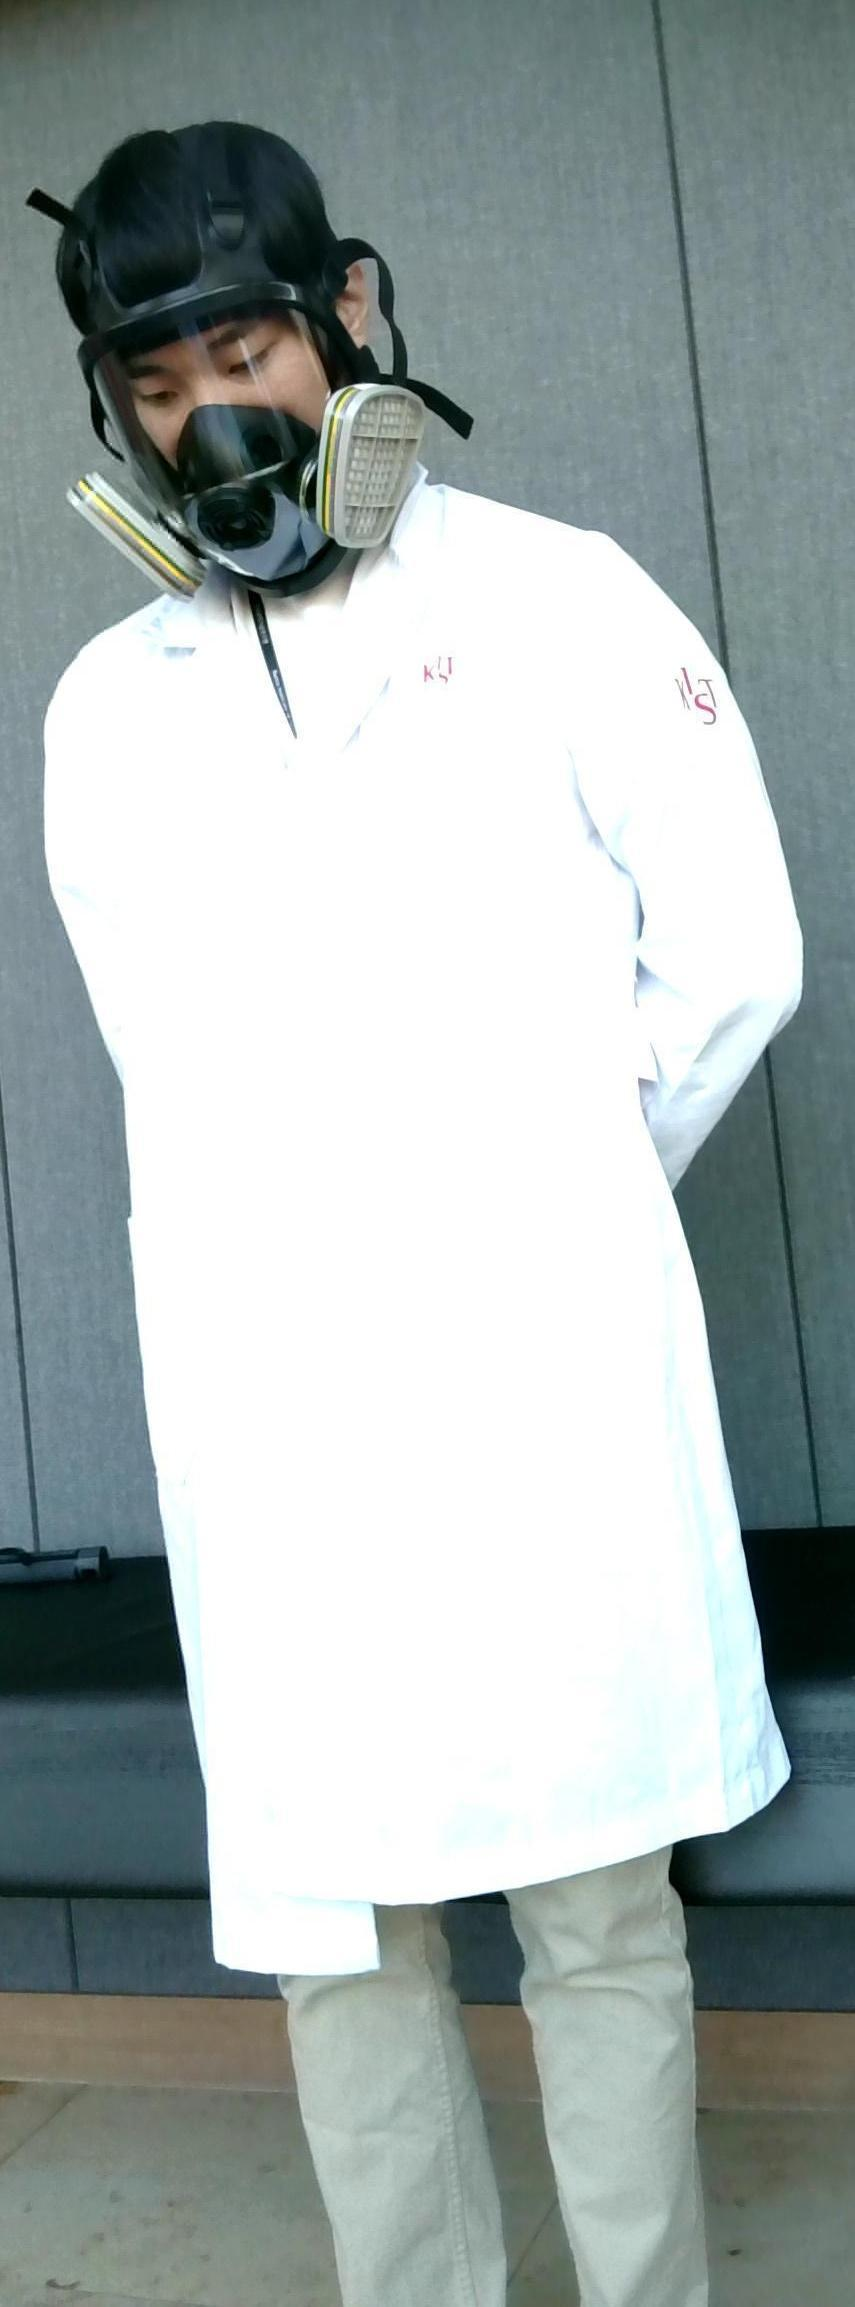lab_coat: (46, 596, 776, 1832)
